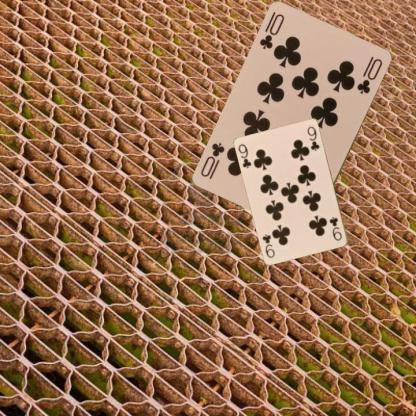10c: (257, 11, 286, 51)
9c: (236, 141, 252, 170), (327, 214, 343, 242)
